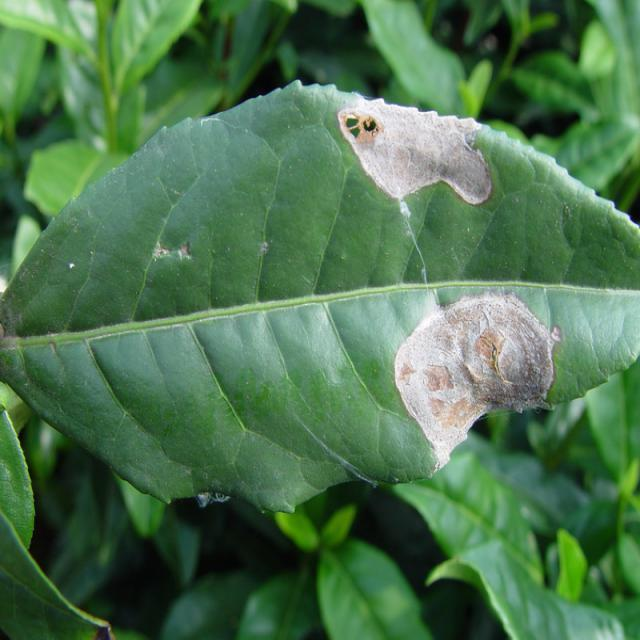Tea cloud leaf blight: (400, 277, 566, 455), (341, 87, 502, 231)
